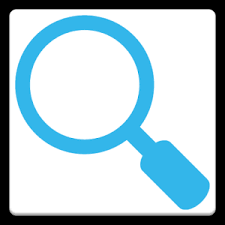searchIcon: (11, 12, 211, 211)
